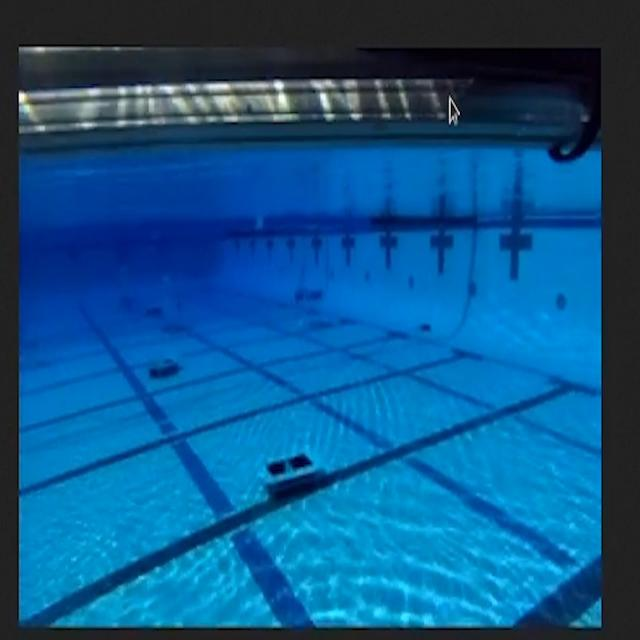Bin: (243, 423, 338, 521)
